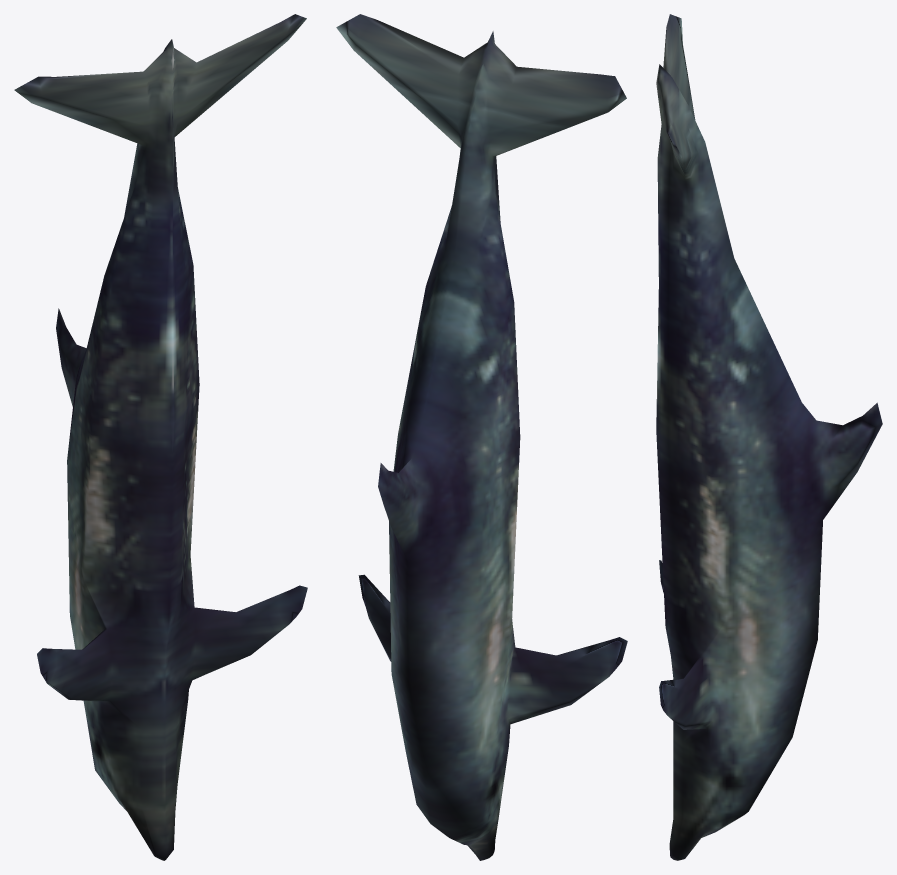
Rendered from delfin_low.obj.
The picture shows the model from 3 angles, left to right: view 1: azimuth 30°, elevation 25°; view 2: azimuth 150°, elevation 25°; view 3: azimuth 270°, elevation 25°; orthographic projection. The views are drawn at different scales.
Visible parts, largest first — view 1: object; view 2: object; view 3: object.
Part boxes in pixels (x1,y1,x2,y2): object: (14, 14, 307, 860); object: (336, 14, 627, 860); object: (656, 14, 882, 860).
Size of the model in its own units: 1.42 by 3.84 by 0.9892.
